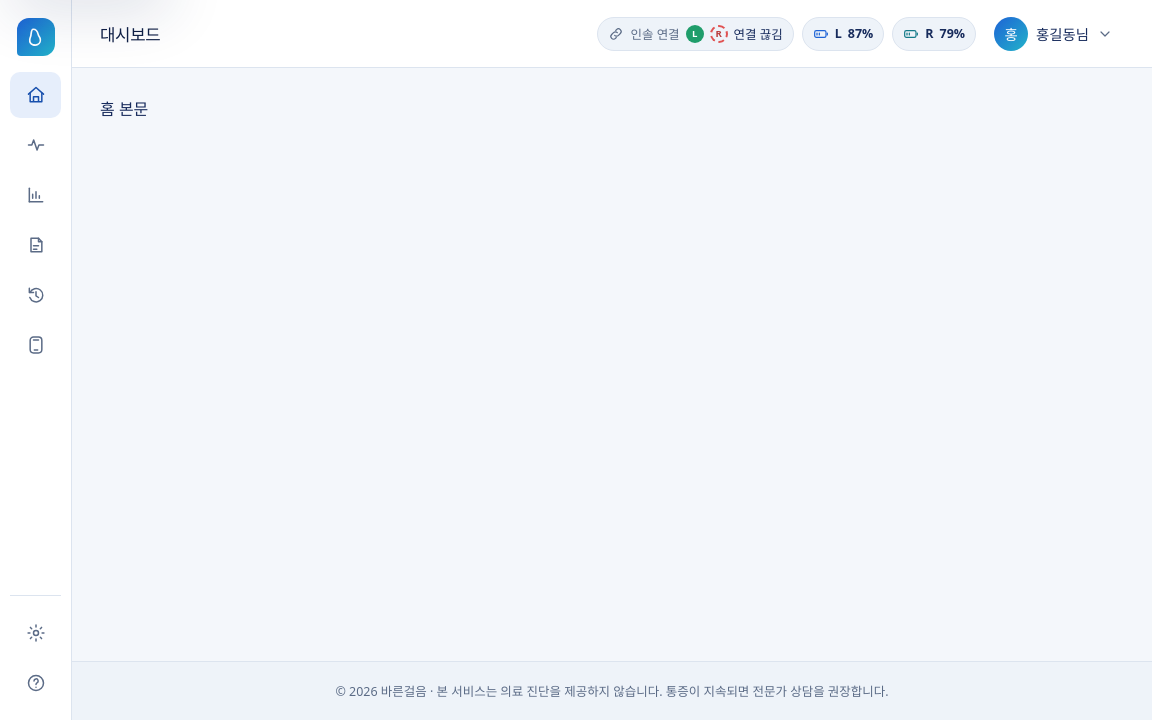
Test: AppShell › 사용자 메뉴는 설정·도움말·로그아웃을 제공하고 Escape로 닫힌다
The width and height of the screenshot is (1152, 720).
Click the button "홍 홍길동님" at (1057, 34), box [990,12,1124,54]
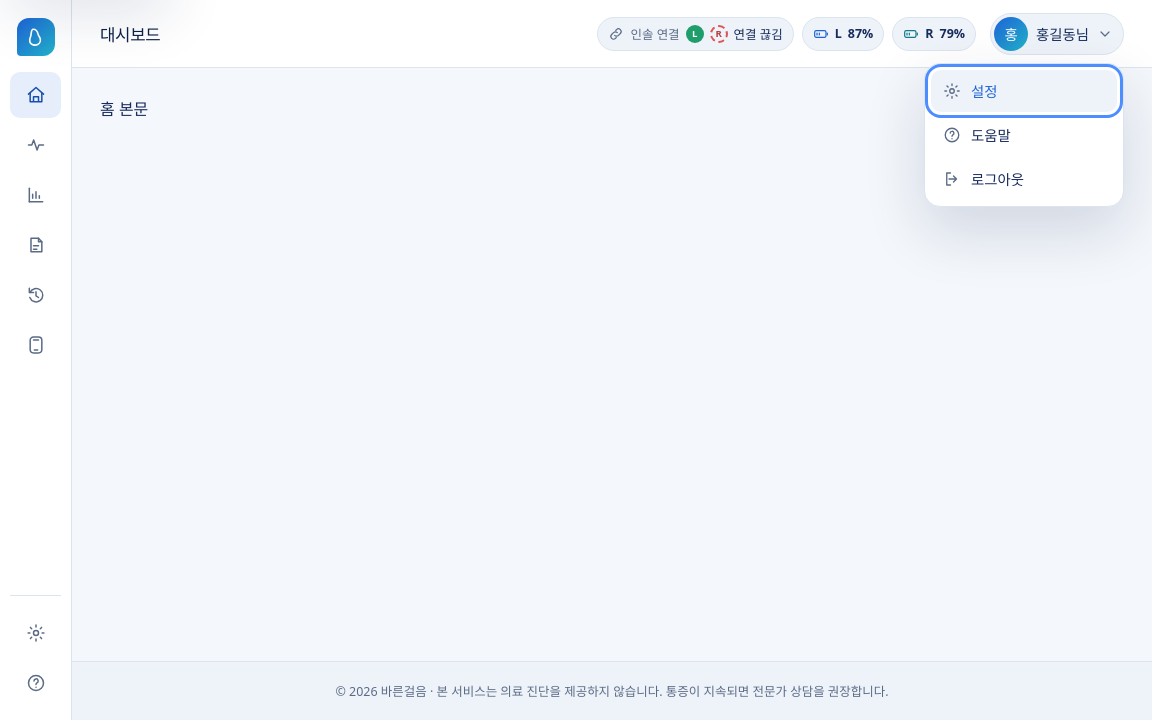
Expected: the button "홍 홍길동님" is expanded, [990,12,1124,54]
Expected: the menu items read "설정", "도움말", "로그아웃", in this order, [931,70,1117,112]; [943,124,1011,145]; [931,158,1117,200]
Press Escape
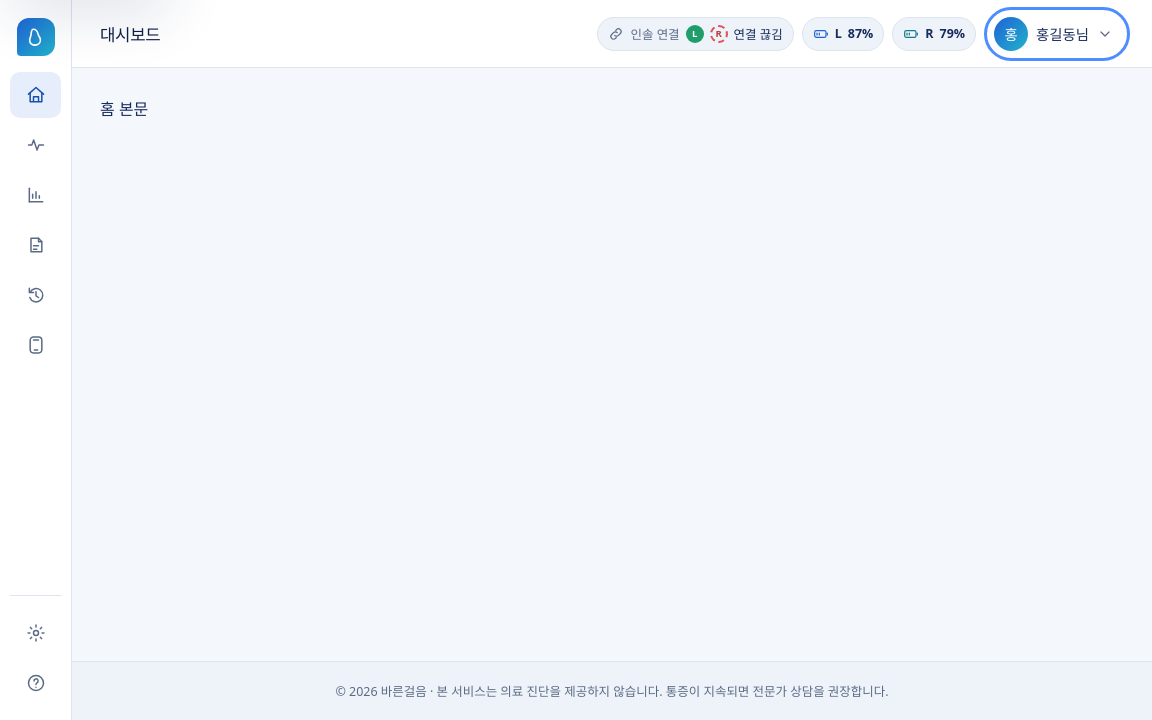
Expected: the menu is gone
Click the button "홍 홍길동님" at (1057, 34), box [990,12,1124,54]
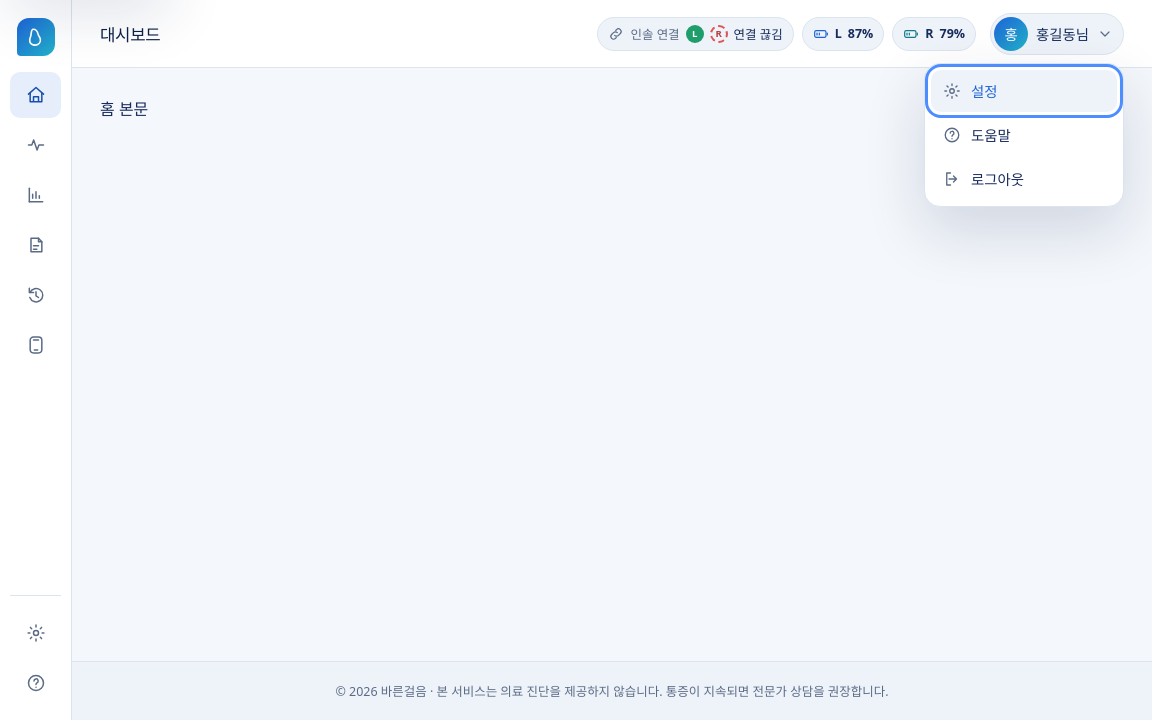
Click the menu item "로그아웃" at (1024, 178), box [931,158,1117,200]
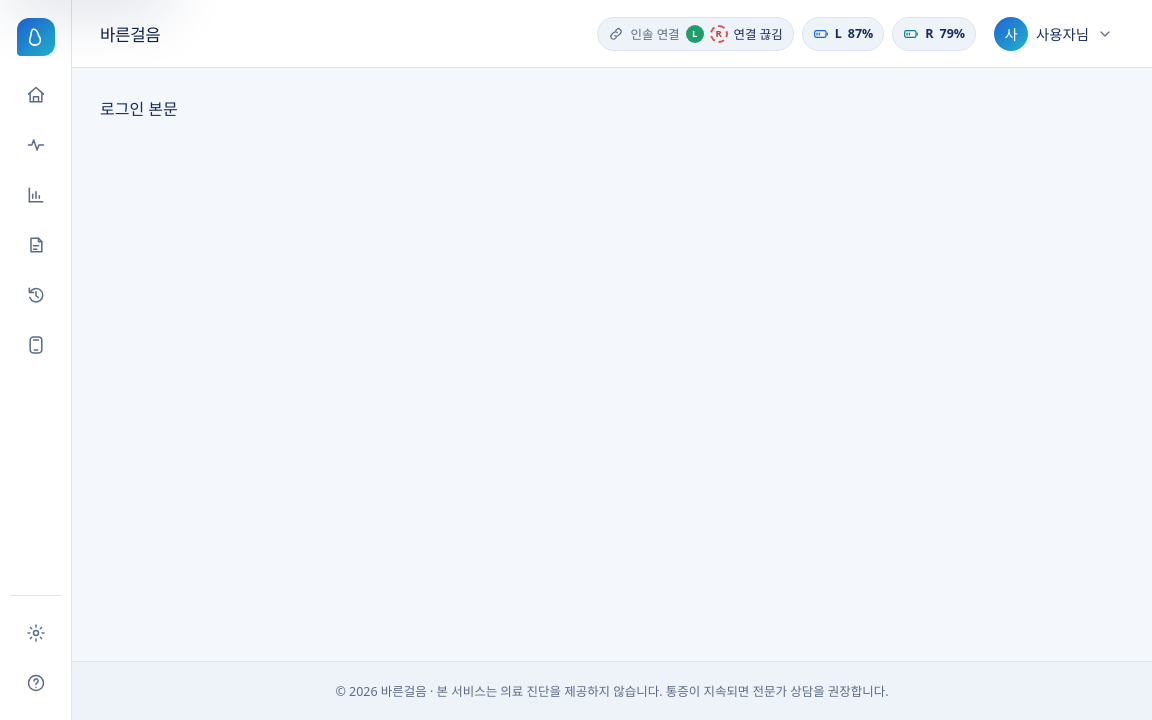
Expected: the text "로그인 본문" is shown, [100,98,178,120]
